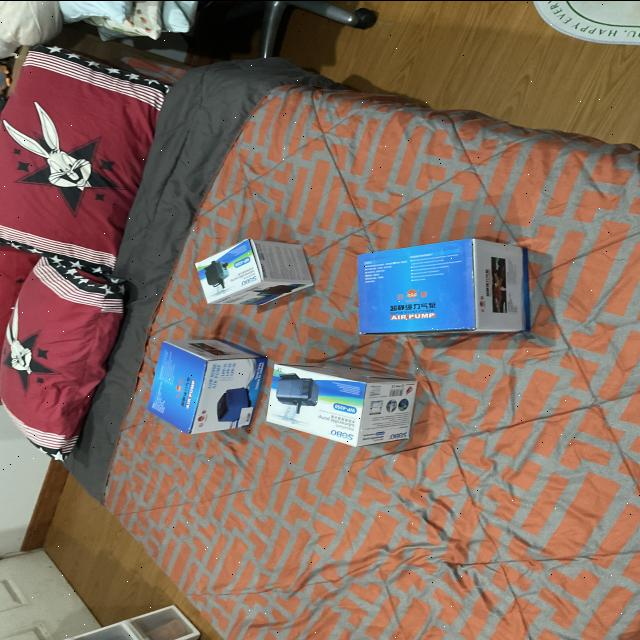SOBO_WP_4200: (270, 352, 428, 452), (187, 220, 321, 308)
YAMANO_LPP_20: (356, 218, 554, 341), (137, 324, 280, 434)
